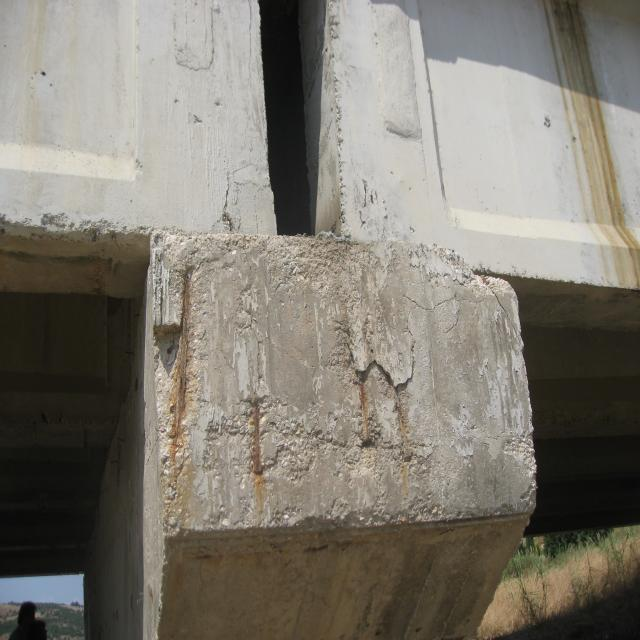corrosion: (153, 256, 204, 520), (348, 362, 423, 465), (238, 388, 283, 512)
